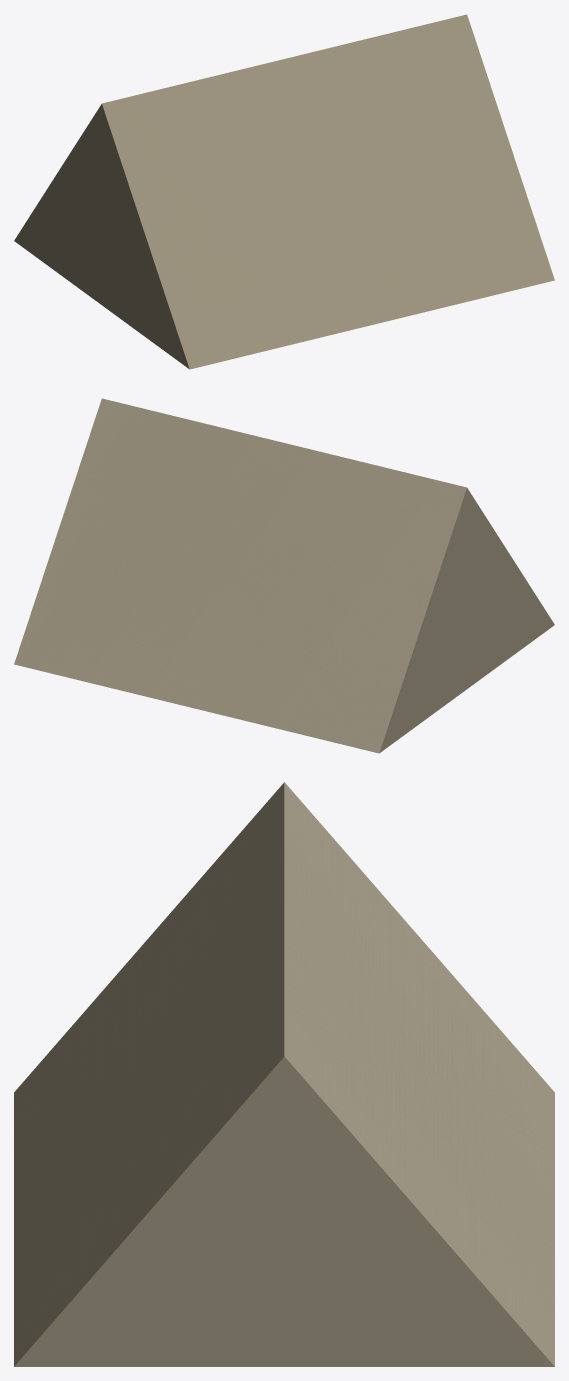
Rendered from tent.glb.
3 renders of one model, top to bottom at view 1: azimuth 30°, elevation 25°; view 2: azimuth 150°, elevation 25°; view 3: azimuth 270°, elevation 25°, orthographic. The views are drawn at different scales.
Parts seen in each view (by area): view 1: ../env/tent; view 2: ../env/tent; view 3: ../env/tent.
Part boxes in pixels (left/top/right/bottom): ../env/tent: left=14, top=14, right=554, bottom=369; ../env/tent: left=14, top=398, right=554, bottom=753; ../env/tent: left=14, top=782, right=554, bottom=1366.
Size of the model in its own units: 3.6 by 1.9 by 3.
